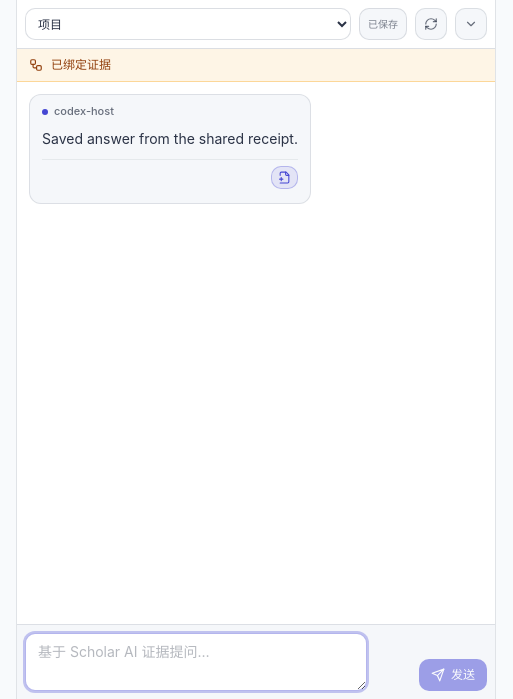
Scenario: AgentSidebar › keeps visual observations folded and reads details only after a candidate click
expect the text "Saved answer from the shared receipt." is shown: met, box [42,127,298,151]
Click the button named "显示侧栏工具".
click(471, 24)  # box [455,8,487,40]
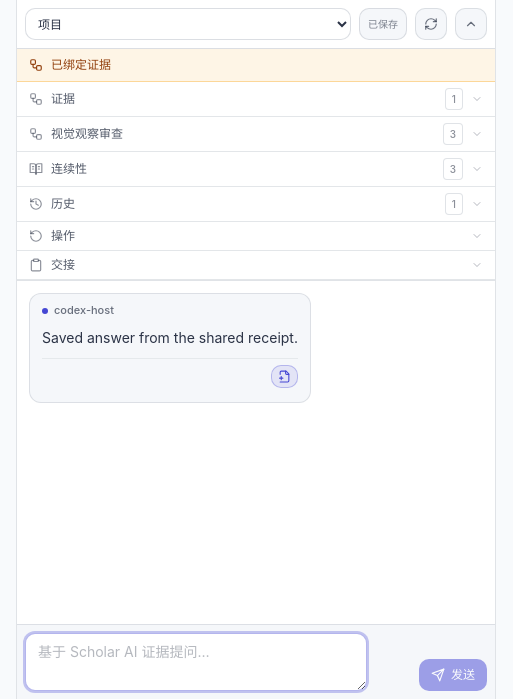
expect the text "候选 1" is not shown: met
Click the button "视觉观察审查 3".
click(87, 134)  # box [17,117,495,151]
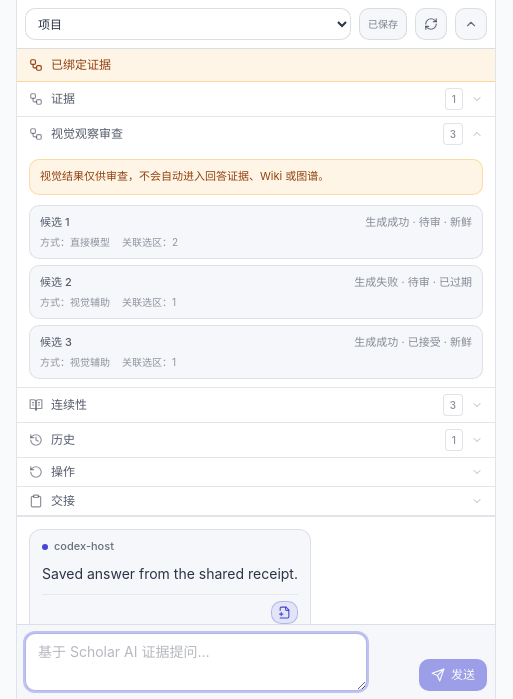
expect the text "视觉结果仅供审查，不会自动进入回答证据、Wiki 或图谱。" is shown: met, box [29,159,483,195]
expect the text "生成成功 · 待审 · 新鲜" is shown: met, box [365,214,472,230]
expect the text "方式：直接模型" is shown: met, box [40,234,110,250]
Click the button with aria-label "读取视觉观察候选 1".
click(387, 222)  # box [29,205,483,259]
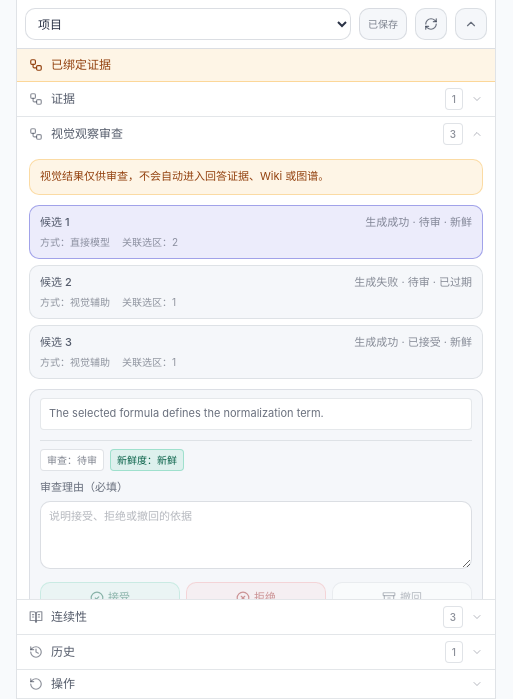
expect the text "The selected formula defines the normalization term." is shown: met, box [40,398,472,430]
